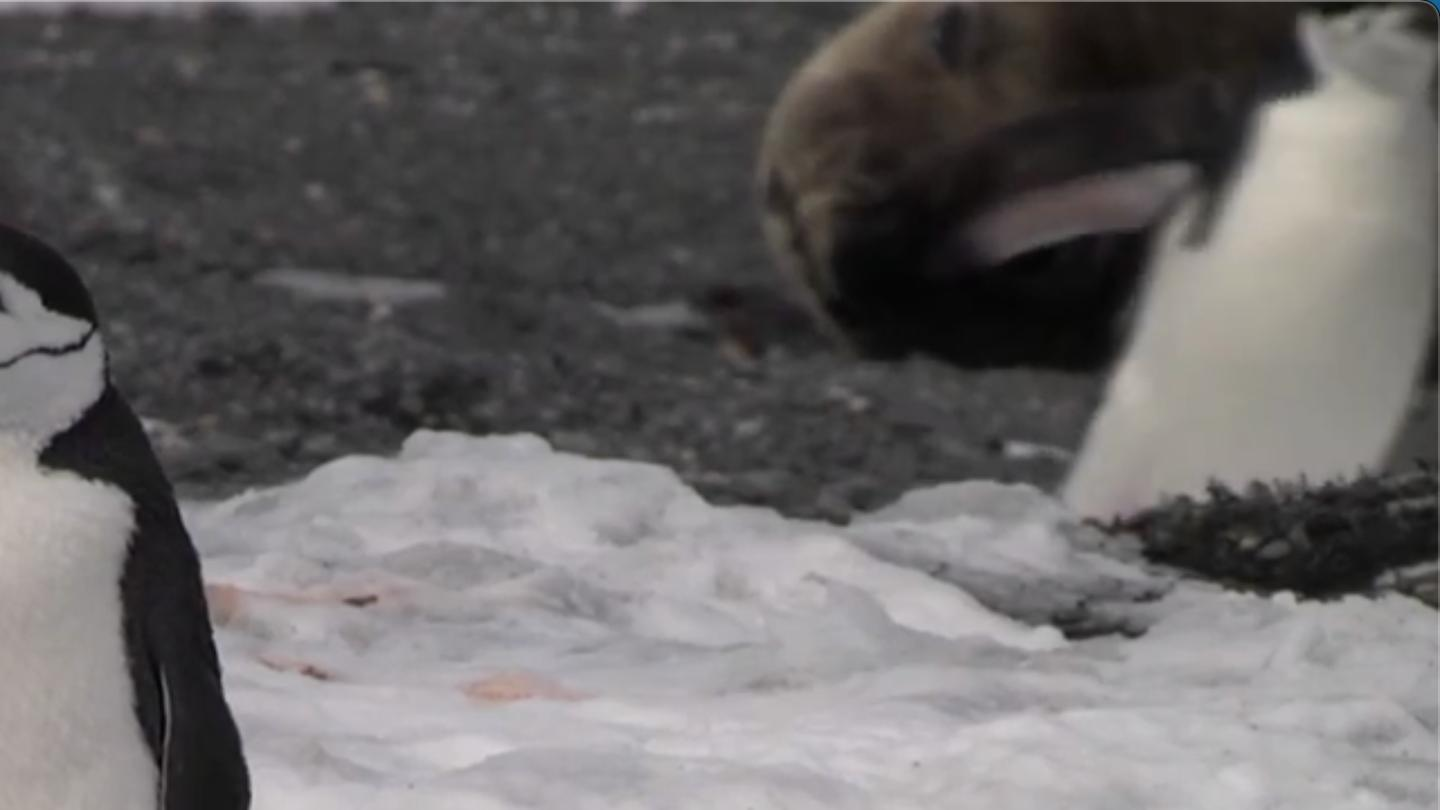Chinstrap Penguin: (0, 565, 552, 810), (0, 192, 215, 565)
